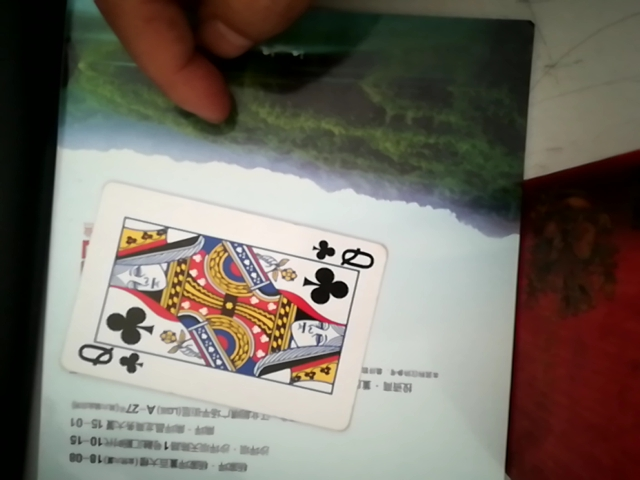mh q: (47, 171, 386, 434)
